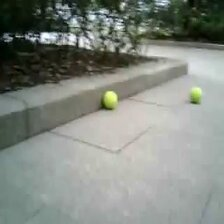tennis: (104, 92, 118, 107), (189, 87, 203, 100)
